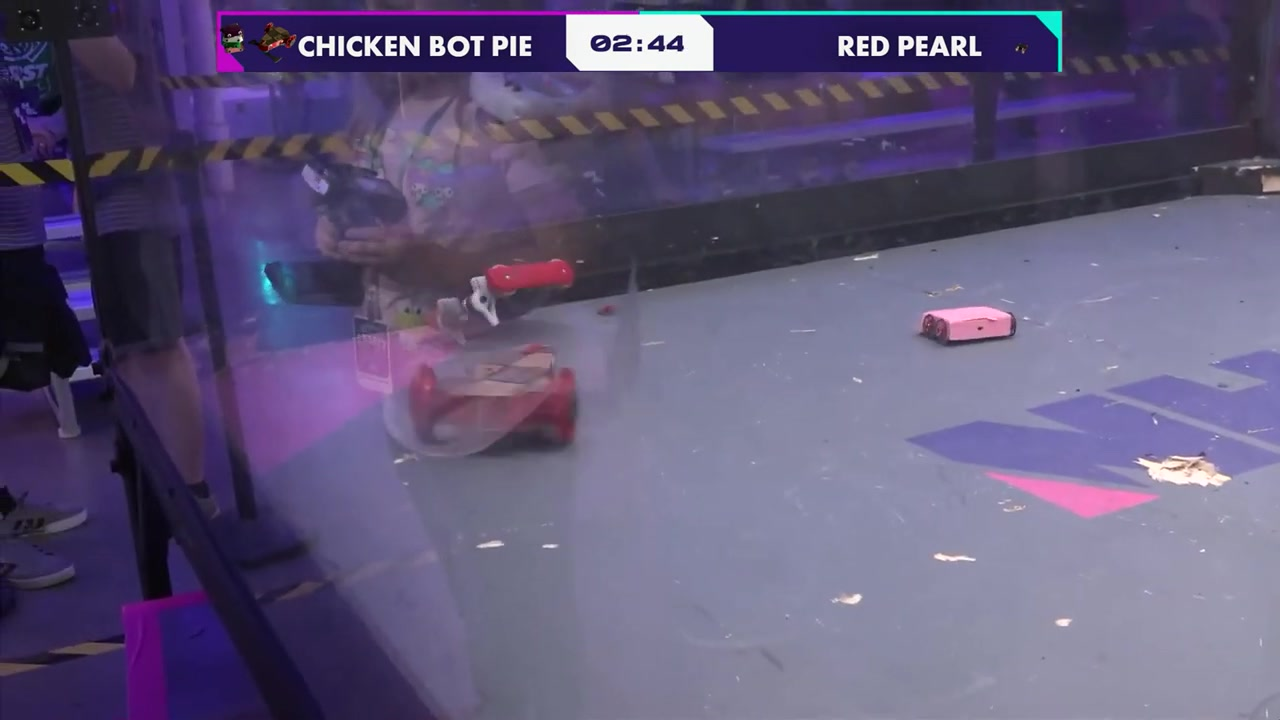combatbot: (412, 345, 581, 459), (435, 265, 574, 340)
minibot: (914, 305, 1019, 347)
